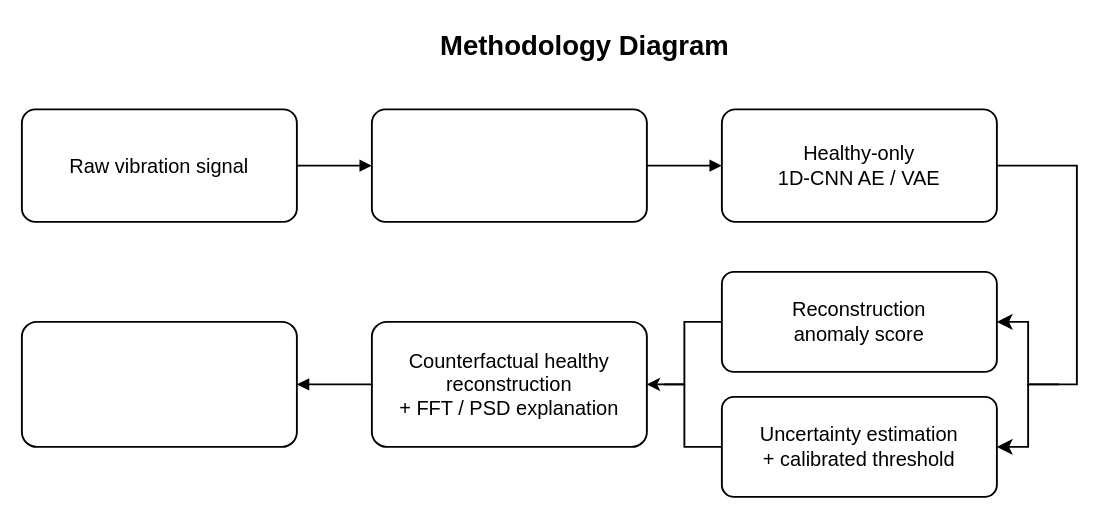
This 1104x519 diagram has some shape labels left out. The shapes that lost their labels are listed below. From the top down, each one's box as (x1, y1, x2, y2) in pixels, then its label:
(370, 108, 647, 222): Preprocessing Windowing
(20, 320, 297, 447): Robustness + edge evaluation
